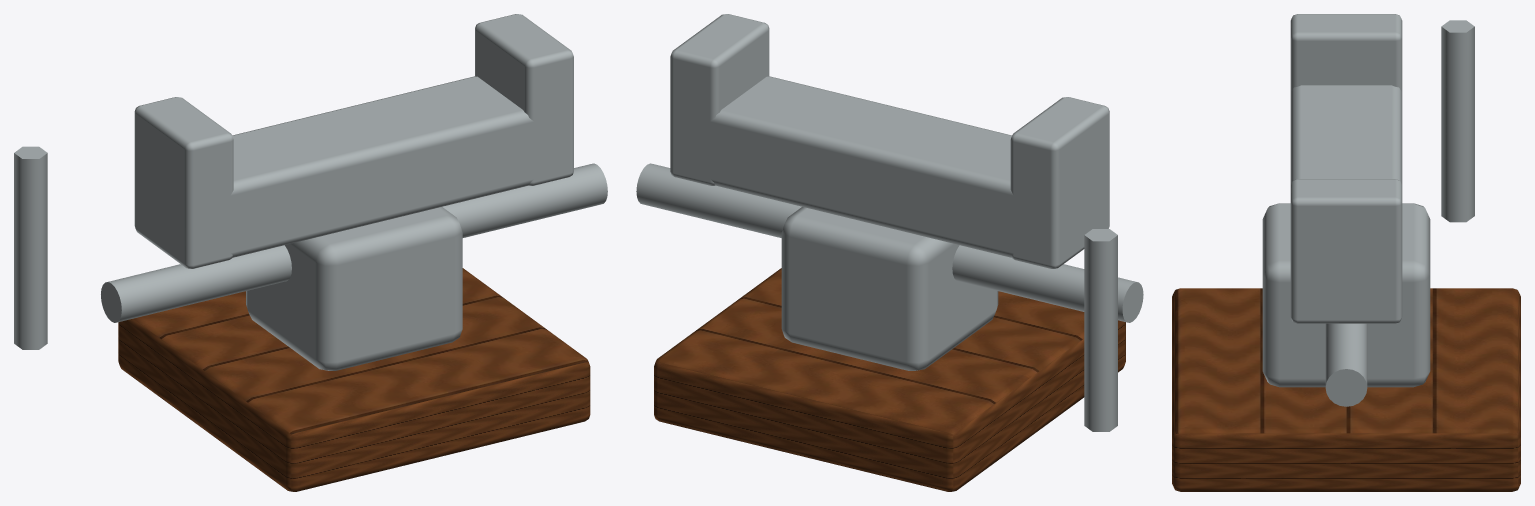
Rendered from salvage-and-repair-workshop-bench-vice-25480ebf__25447.glb.
3 renders of one model, left to right at view 1: azimuth 30°, elevation 25°; view 2: azimuth 150°, elevation 25°; view 3: azimuth 270°, elevation 25°, orthographic.
Visible parts, largest first — view 1: bench-vice; view 2: bench-vice; view 3: bench-vice.
Boxes of the visible parts, box(x1,y1,x2,y2) form: bench-vice: box(14, 14, 607, 491); bench-vice: box(636, 14, 1143, 491); bench-vice: box(1172, 14, 1520, 491).
Bounding box in the file's own units: 0.4304 × 0.25 × 0.25.
Materials: 2 (1 with a texture image).
